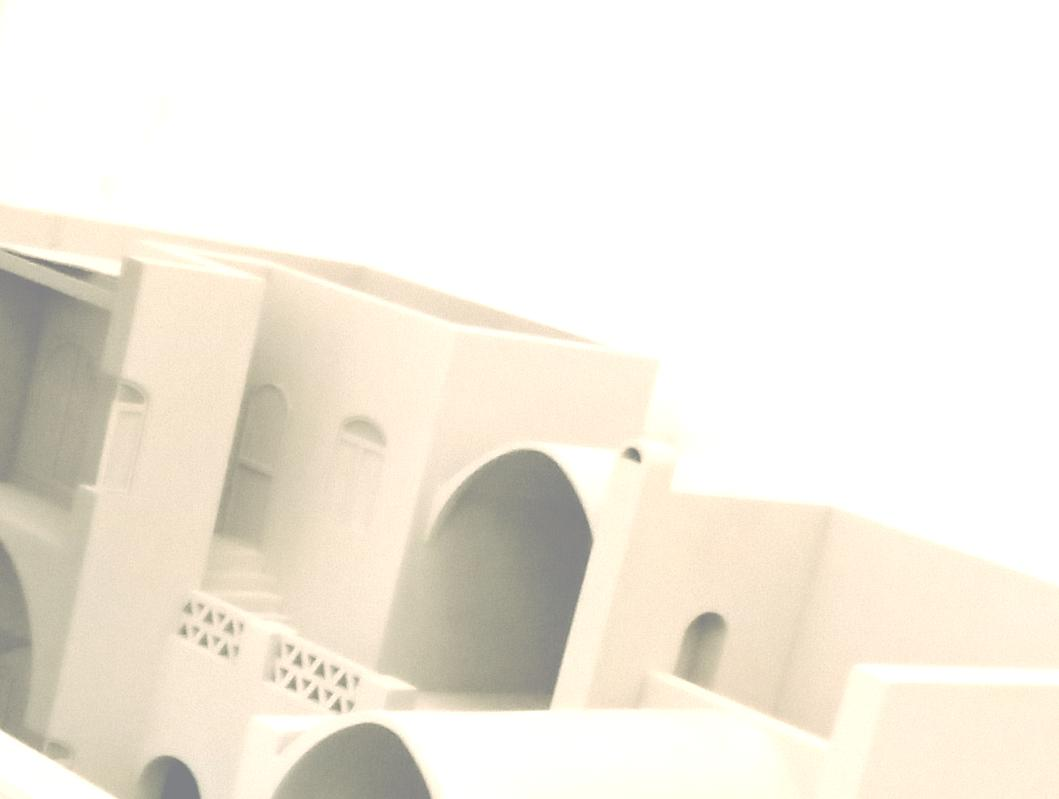HassanFathi: (0, 194, 1059, 799)
